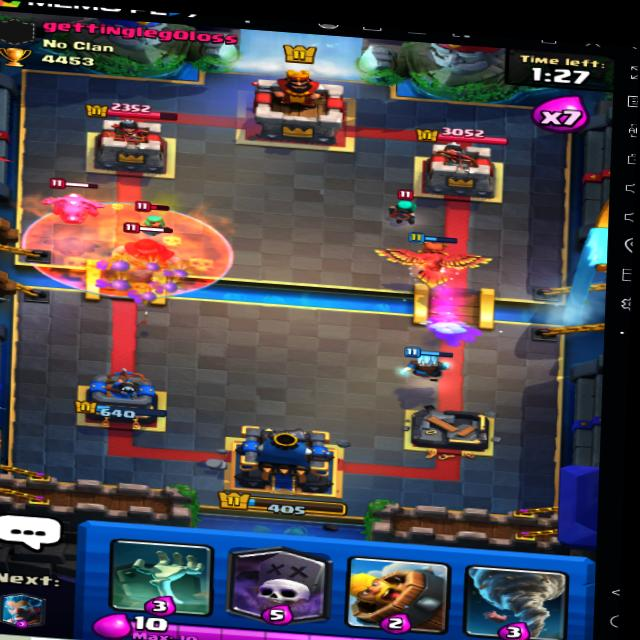electro-dragon: (37, 174, 108, 233)
rascal-boy: (112, 225, 188, 268)
rascal-girl: (388, 190, 431, 228), (134, 204, 173, 239)
